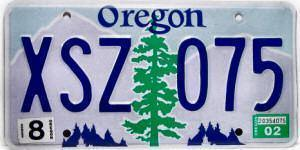placa de veiculo: (4, 2, 296, 150)
